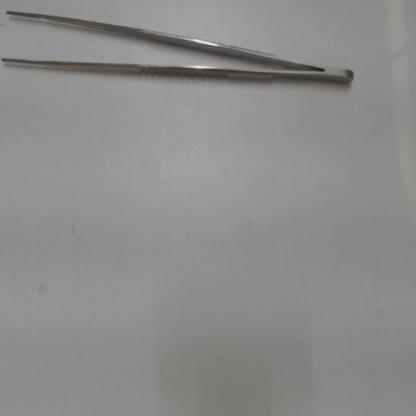DeBakey Dissector: (1, 3, 374, 109)
